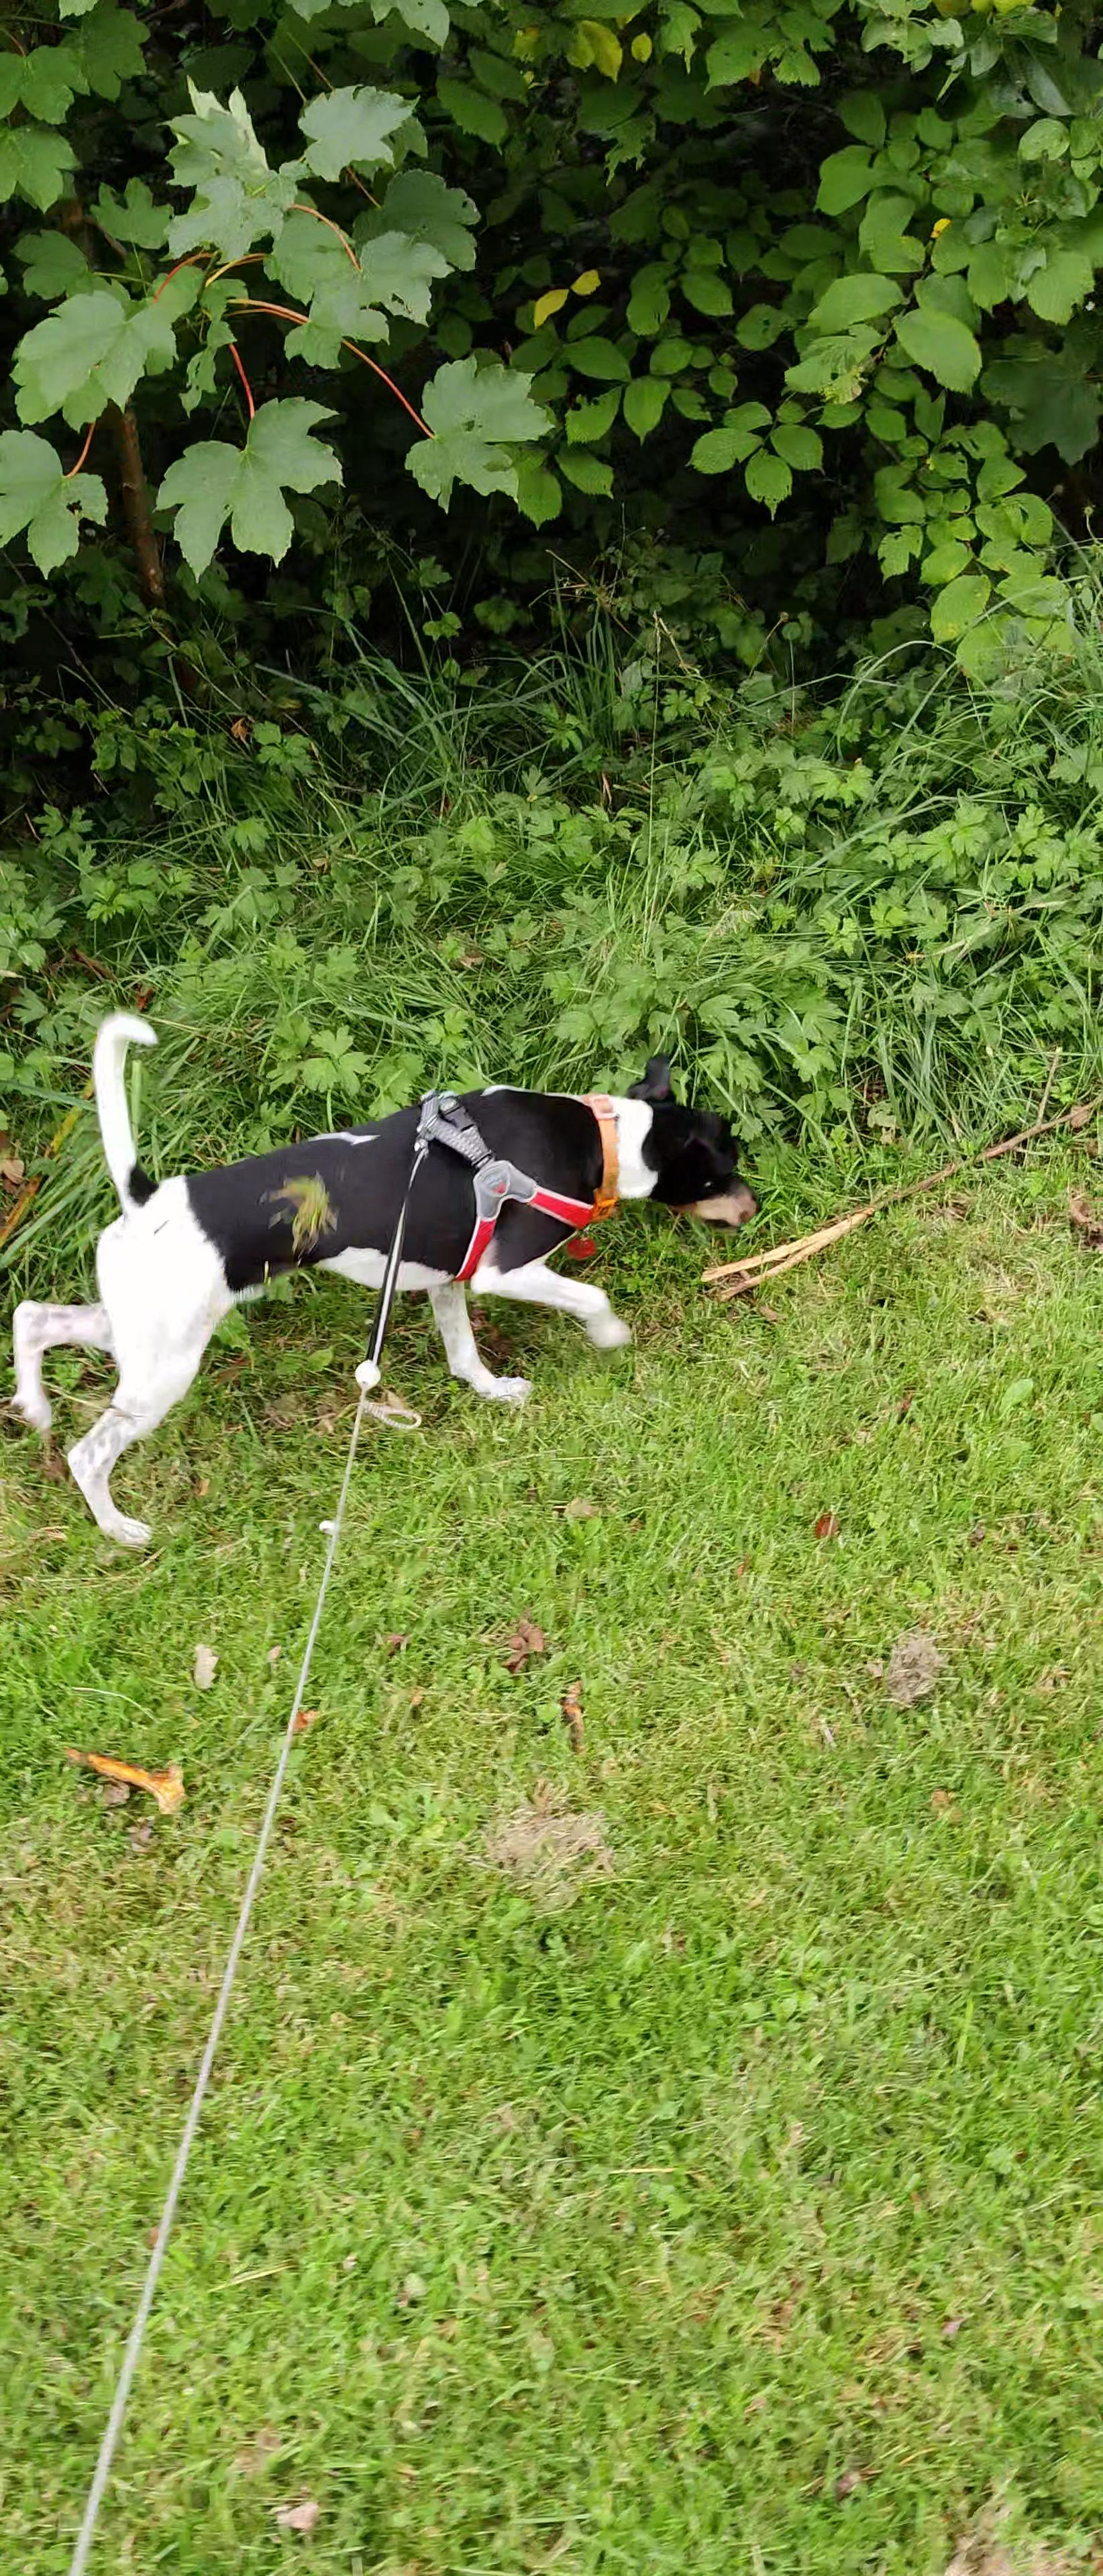Dog: (0, 1017, 773, 1557)
